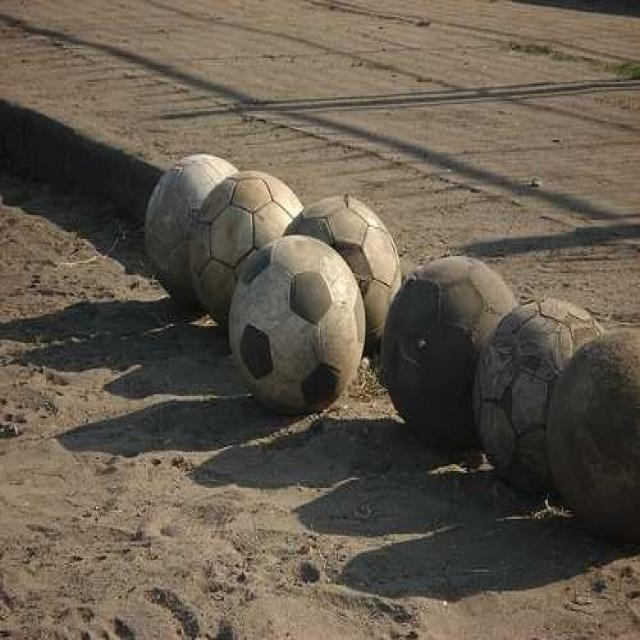ball: (382, 258, 516, 456), (474, 296, 600, 497), (229, 237, 366, 412), (551, 328, 640, 554), (279, 196, 400, 350), (190, 170, 302, 323), (144, 154, 235, 313)
